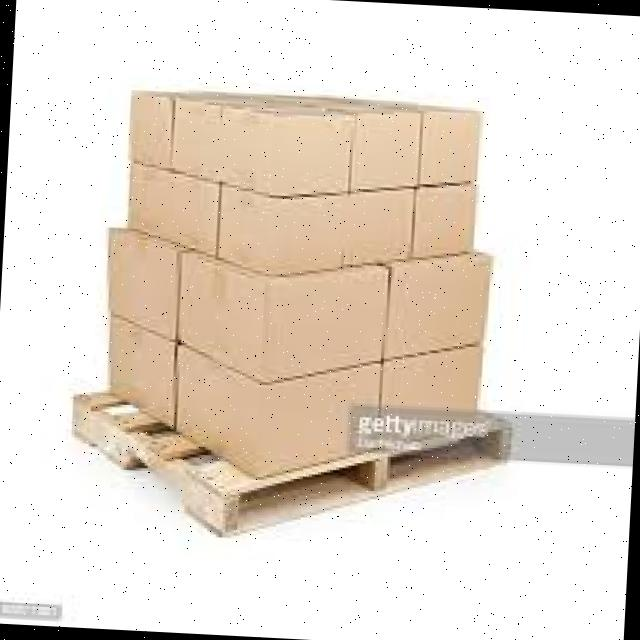Wooden-Pallets: (199, 417, 511, 542)
